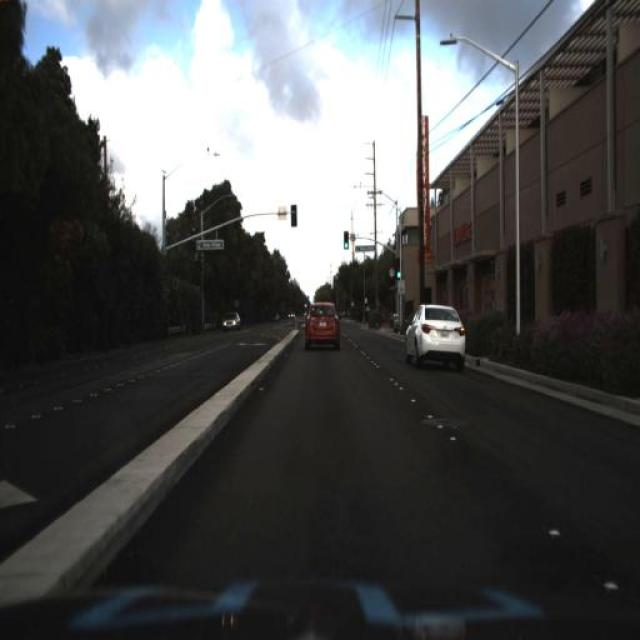car: (402, 296, 469, 368), (294, 289, 352, 356), (218, 302, 246, 338), (219, 307, 243, 332)
trafficLight-GreenLeft: (338, 223, 353, 253), (394, 261, 404, 287), (342, 228, 352, 251), (396, 266, 402, 282)
